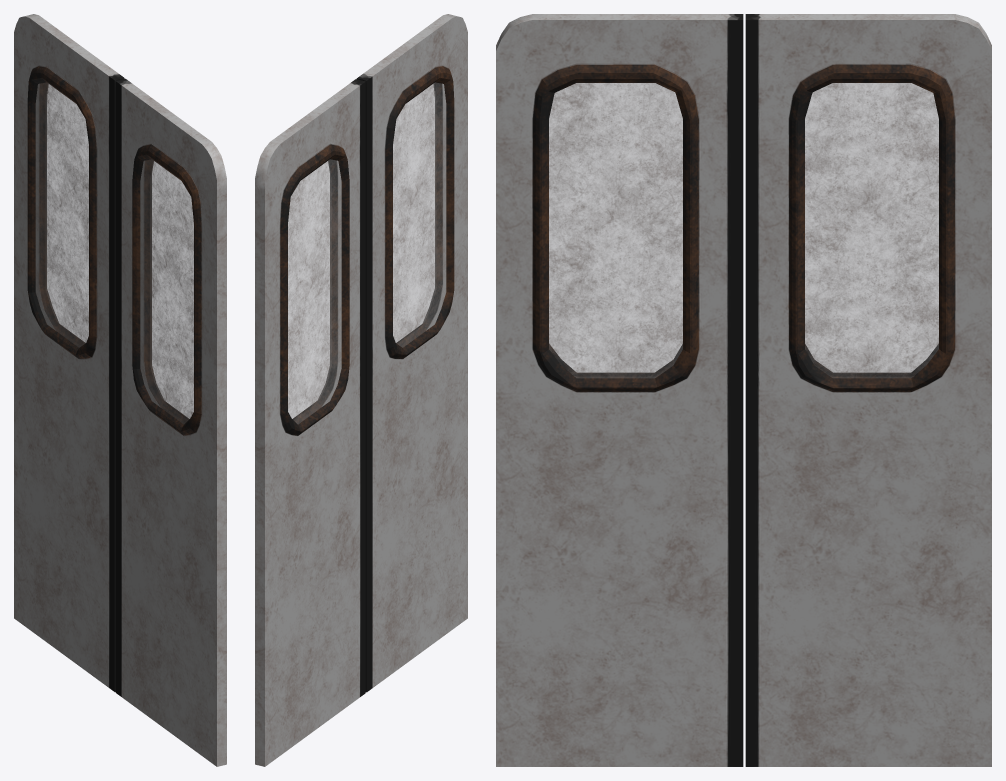
Rendered from Door.glb.
The picture shows the model from 3 angles, left to right: view 1: azimuth 30°, elevation 25°; view 2: azimuth 150°, elevation 25°; view 3: azimuth 270°, elevation 25°; orthographic projection. The views are drawn at different scales.
Parts seen in each view (by area): view 1: body003_side_door_0; view 2: body003_side_door_0; view 3: body003_side_door_0.
Boxes of the visible parts, x1,y1,x2,y2 form: body003_side_door_0: (14,14,226,766); body003_side_door_0: (255,14,467,766); body003_side_door_0: (496,14,991,766).
Bounding box in the file's own units: 0.1116 × 3.53 × 2.12.
Materials: 1 (1 with a texture image).
